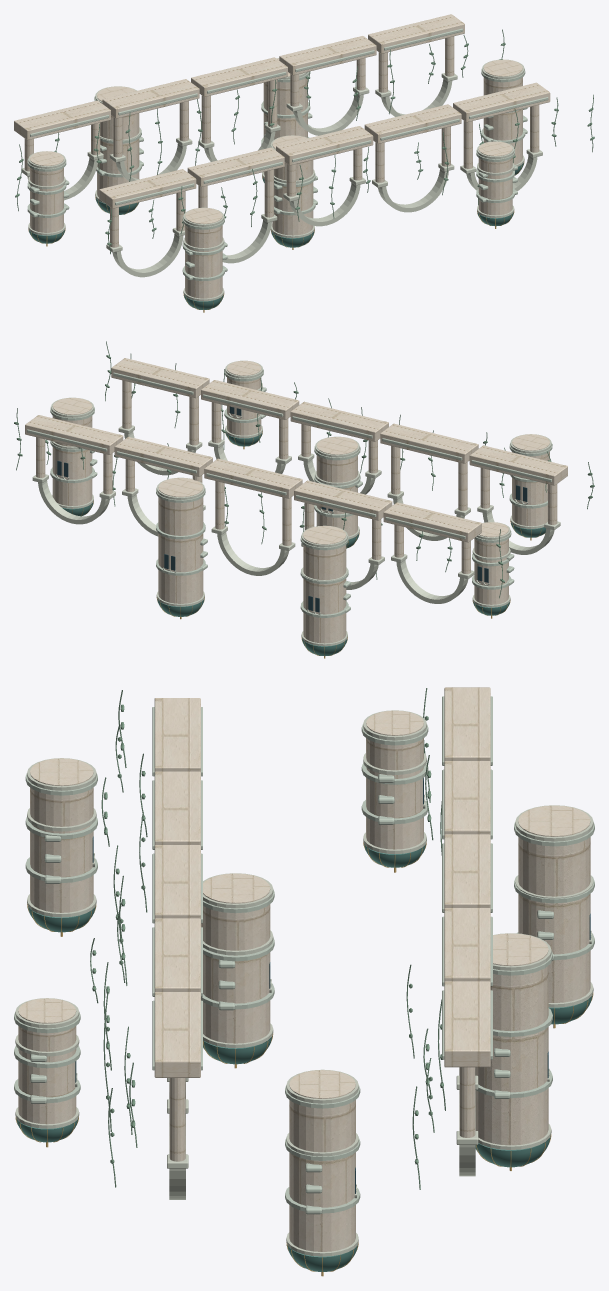
The model's file is world14-hanging-city-v1.glb.
3 views of the same model, one above another, from view 1: azimuth 30°, elevation 25°; view 2: azimuth 150°, elevation 25°; view 3: azimuth 270°, elevation 25° (orthographic). The views are drawn at different scales.
Parts seen in each view (by area): view 1: Inverted city - Ivory hand-cut limestone, Inverted city - Warm honed edge stone, Inverted city - Aged carved limestone, Inverted city - Hanging moss and fern, Inverted city - Patinated blue-green copper; view 2: Inverted city - Ivory hand-cut limestone, Inverted city - Warm honed edge stone, Inverted city - Aged carved limestone, Inverted city - Patinated blue-green copper, Inverted city - Hanging moss and fern, Inverted city - Recessed indigo window; view 3: Inverted city - Ivory hand-cut limestone, Inverted city - Aged carved limestone, Inverted city - Warm honed edge stone, Inverted city - Patinated blue-green copper, Inverted city - Hanging moss and fern, Inverted city - Moon brass.
Boxes of the visible parts, left/top/right/bottom form: Inverted city - Ivory hand-cut limestone: left=14, top=14, right=550, bottom=298; Inverted city - Warm honed edge stone: left=21, top=58, right=542, bottom=301; Inverted city - Aged carved limestone: left=27, top=28, right=548, bottom=280; Inverted city - Hanging moss and fern: left=15, top=29, right=594, bottom=254; Inverted city - Patinated blue-green copper: left=29, top=163, right=523, bottom=309; Inverted city - Ivory hand-cut limestone: left=25, top=358, right=567, bottom=643; Inverted city - Warm honed edge stone: left=32, top=360, right=560, bottom=646; Inverted city - Aged carved limestone: left=27, top=369, right=552, bottom=617; Inverted city - Patinated blue-green copper: left=62, top=433, right=545, bottom=656; Inverted city - Hanging moss and fern: left=14, top=341, right=594, bottom=598; Inverted city - Recessed indigo window: left=57, top=406, right=527, bottom=612; Inverted city - Ivory hand-cut limestone: left=18, top=687, right=590, bottom=1251; Inverted city - Aged carved limestone: left=14, top=696, right=594, bottom=1214; Inverted city - Warm honed edge stone: left=15, top=710, right=593, bottom=1256; Inverted city - Patinated blue-green copper: left=16, top=844, right=592, bottom=1271; Inverted city - Hanging moss and fern: left=90, top=688, right=445, bottom=1189; Inverted city - Moon brass: left=15, top=842, right=593, bottom=1276.
Bounding box in the file's own units: 66.12 × 19.25 × 40.1.
Materials: 7 (1 with a texture image).
